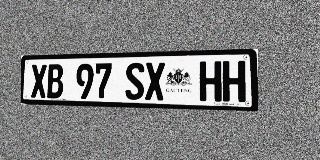7: (94, 63, 112, 99)
9: (76, 63, 94, 99)
B: (47, 64, 63, 98)
H: (222, 61, 246, 102), (199, 61, 222, 102)
S: (125, 62, 144, 100)
X: (145, 62, 165, 100), (31, 64, 47, 98)
